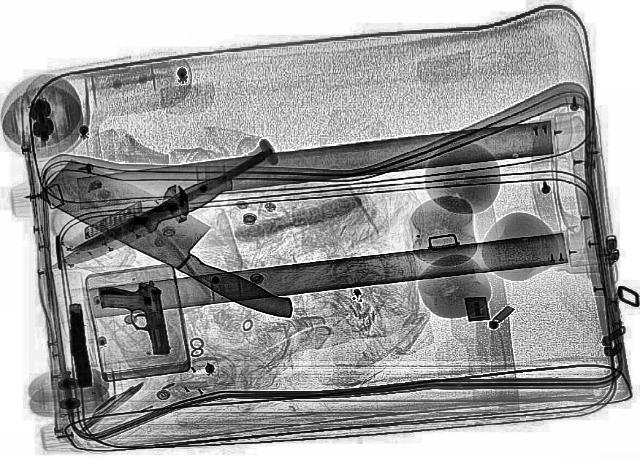Gun: (97, 280, 171, 358), (62, 303, 92, 387)
Knife: (25, 154, 329, 325), (64, 149, 276, 257), (32, 170, 240, 278)
